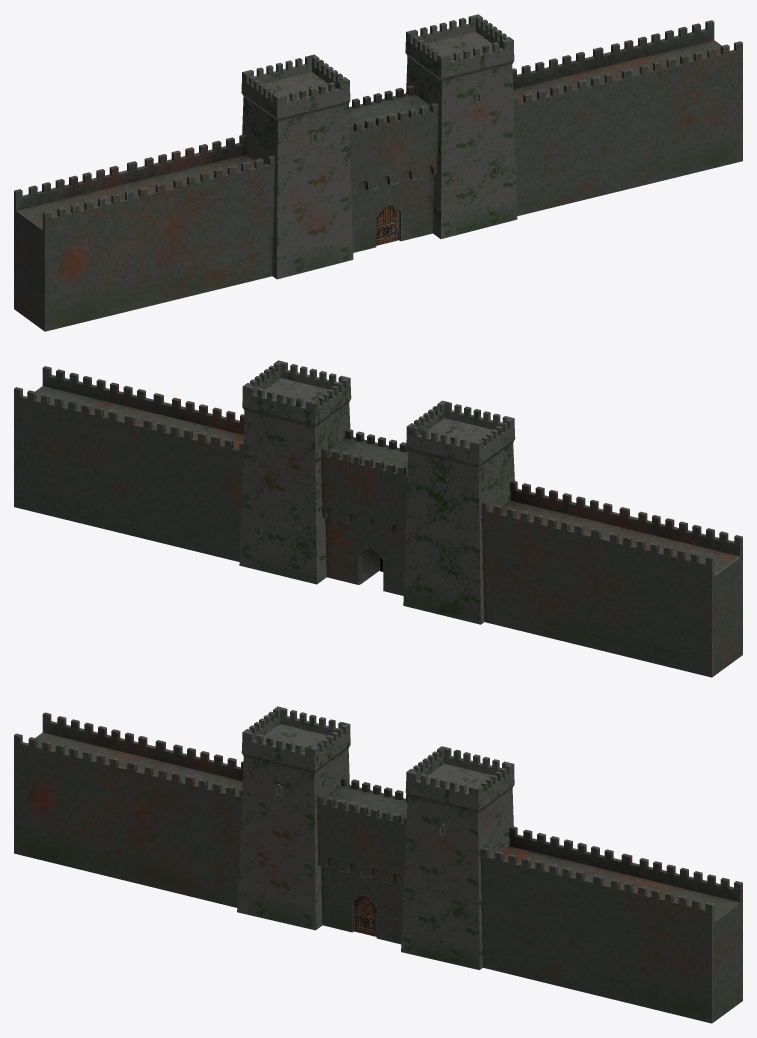
Rendered from SM_castle.fbx.
3 renders of one model, top to bottom at view 1: azimuth 30°, elevation 25°; view 2: azimuth 150°, elevation 25°; view 3: azimuth 330°, elevation 25°, orthographic.
Visible parts, largest first — view 1: castle_wall_L, castle_wall_R, Citadel_body (×2), Citadel_head (×2), castle_part_f, castle_gate, castle_part_B; view 2: castle_wall_L, castle_wall_R, Citadel_body (×2), Citadel_head (×2), castle_gate, castle_part_B, castle_part_f; view 3: castle_wall_R, castle_wall_L, Citadel_body (×2), Citadel_head (×2), castle_part_f, castle_gate, castle_part_B.
Boxes of the visible parts, x1,y1,x2,y2 form: castle_wall_L: (14, 134, 275, 331); castle_wall_R: (512, 20, 742, 215); Citadel_body (×2): (242, 53, 517, 279); Citadel_head (×2): (241, 14, 514, 118); castle_part_f: (349, 102, 438, 194); castle_gate: (348, 94, 434, 252); castle_part_B: (348, 85, 414, 109); castle_wall_L: (481, 480, 742, 677); castle_wall_R: (14, 366, 244, 561); Citadel_body (×2): (239, 399, 514, 624); Citadel_head (×2): (242, 360, 515, 464); castle_gate: (325, 437, 408, 595); castle_part_B: (321, 446, 407, 537); castle_part_f: (345, 429, 408, 452); castle_wall_R: (480, 826, 742, 1023); castle_wall_L: (14, 712, 276, 907); Citadel_body (×2): (237, 745, 513, 969); Citadel_head (×2): (241, 706, 514, 810); castle_part_f: (317, 794, 406, 883); castle_gate: (321, 785, 407, 944); castle_part_B: (341, 777, 407, 801).
Bounding box in the file's own units: 1106 × 271 × 107.
